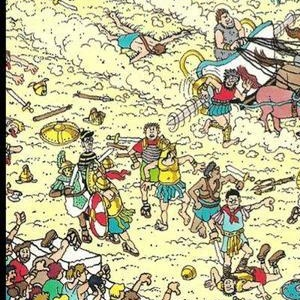Odlaw: (78, 128, 98, 172)
